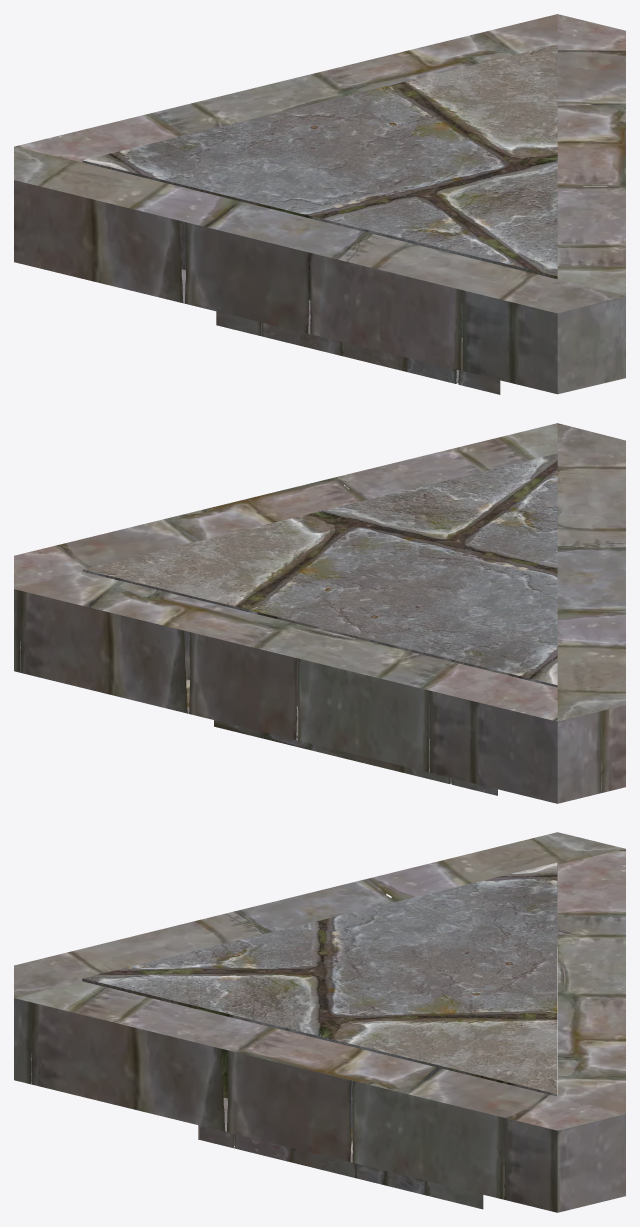
3 renders of one model, top to bottom at view 1: azimuth 30°, elevation 25°; view 2: azimuth 150°, elevation 25°; view 3: azimuth 270°, elevation 25°, orthographic.
Parts seen in each view (by area): view 1: SM_BB_T3_Floor_Trangle_Med_LOD0; view 2: SM_BB_T3_Floor_Trangle_Med_LOD0; view 3: SM_BB_T3_Floor_Trangle_Med_LOD0.
Boxes of the visible parts, x1,y1,x2,y2 form: SM_BB_T3_Floor_Trangle_Med_LOD0: (14, 14, 625, 394); SM_BB_T3_Floor_Trangle_Med_LOD0: (14, 423, 625, 803); SM_BB_T3_Floor_Trangle_Med_LOD0: (14, 832, 625, 1212).
Bounding box in the file's own units: 1.93 × 0.4866 × 1.67.
2 materials, 2 textured.
